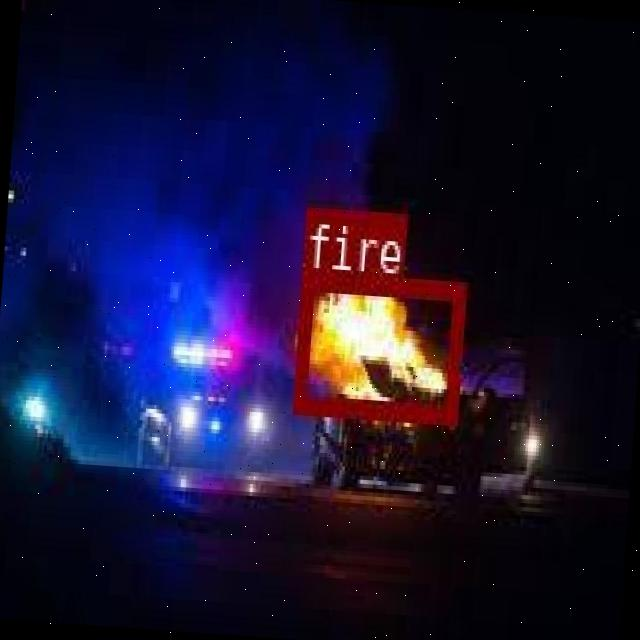fire: (292, 268, 464, 422)
